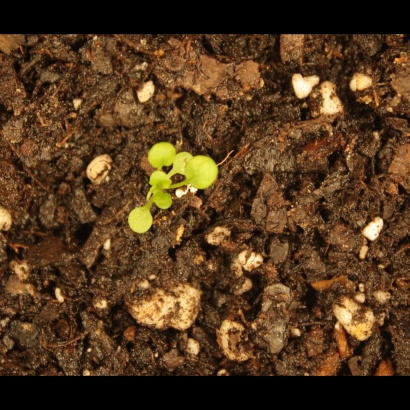leaf: (182, 155, 224, 192), (143, 142, 181, 169), (126, 204, 156, 238), (147, 168, 174, 192), (147, 191, 175, 214), (170, 151, 193, 176)
